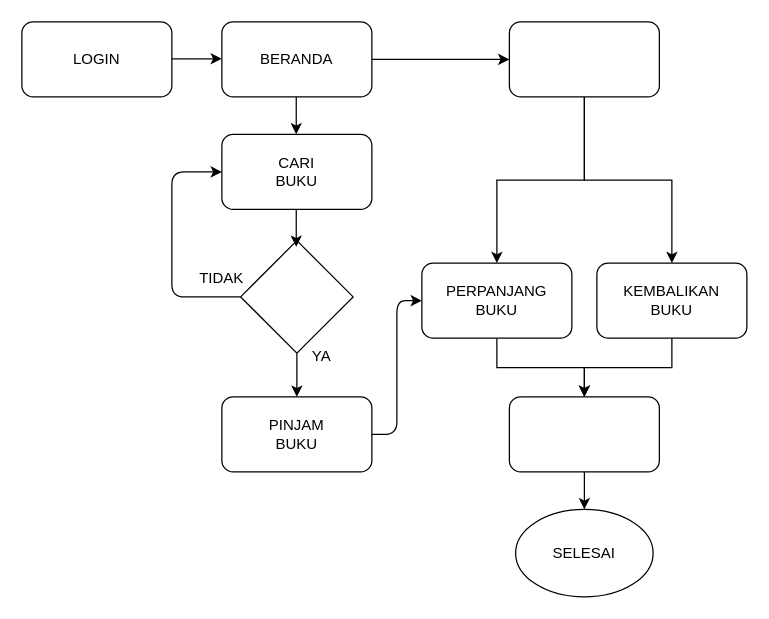
This 769x619 diagram has some shape labels left out. Here are the shapes that lost their labels. From the top down, the centre of each, then its label:
the point at 583,59: STATUS PEMINJAMAN
the point at 296,296: CEK TERSEDIA
the point at 583,434: SERAHKAN BUKU DAN KARTU
